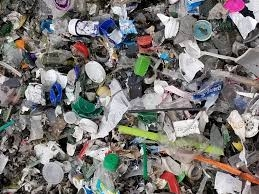metal: (125, 102, 209, 118)
paper: (226, 107, 251, 165), (177, 51, 206, 85), (211, 170, 252, 194), (228, 11, 258, 39), (33, 139, 65, 162), (156, 10, 181, 38), (33, 67, 67, 87), (171, 118, 202, 137), (178, 36, 205, 57), (24, 82, 47, 106), (77, 115, 96, 136), (153, 78, 171, 93), (107, 78, 122, 93)
plastic: (162, 145, 259, 184), (117, 123, 226, 155), (233, 44, 259, 79), (98, 17, 123, 47), (66, 16, 100, 38), (71, 95, 100, 120), (40, 160, 65, 185), (84, 59, 107, 84), (190, 18, 213, 42), (133, 53, 153, 78), (47, 82, 66, 106), (101, 153, 121, 172), (71, 40, 90, 60), (221, 1, 246, 12), (136, 34, 154, 49)
